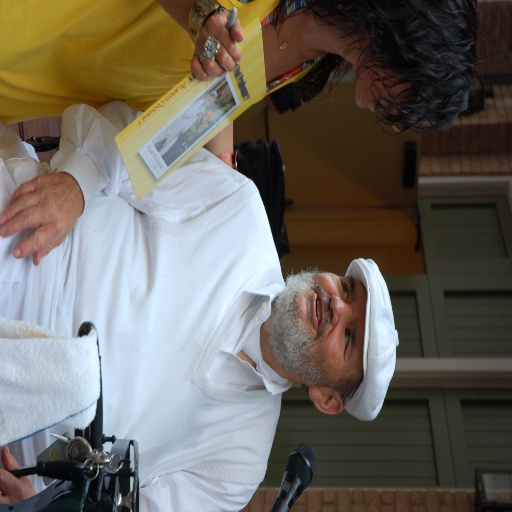hand: (0, 174, 83, 267), (194, 8, 243, 73), (0, 445, 38, 504)
